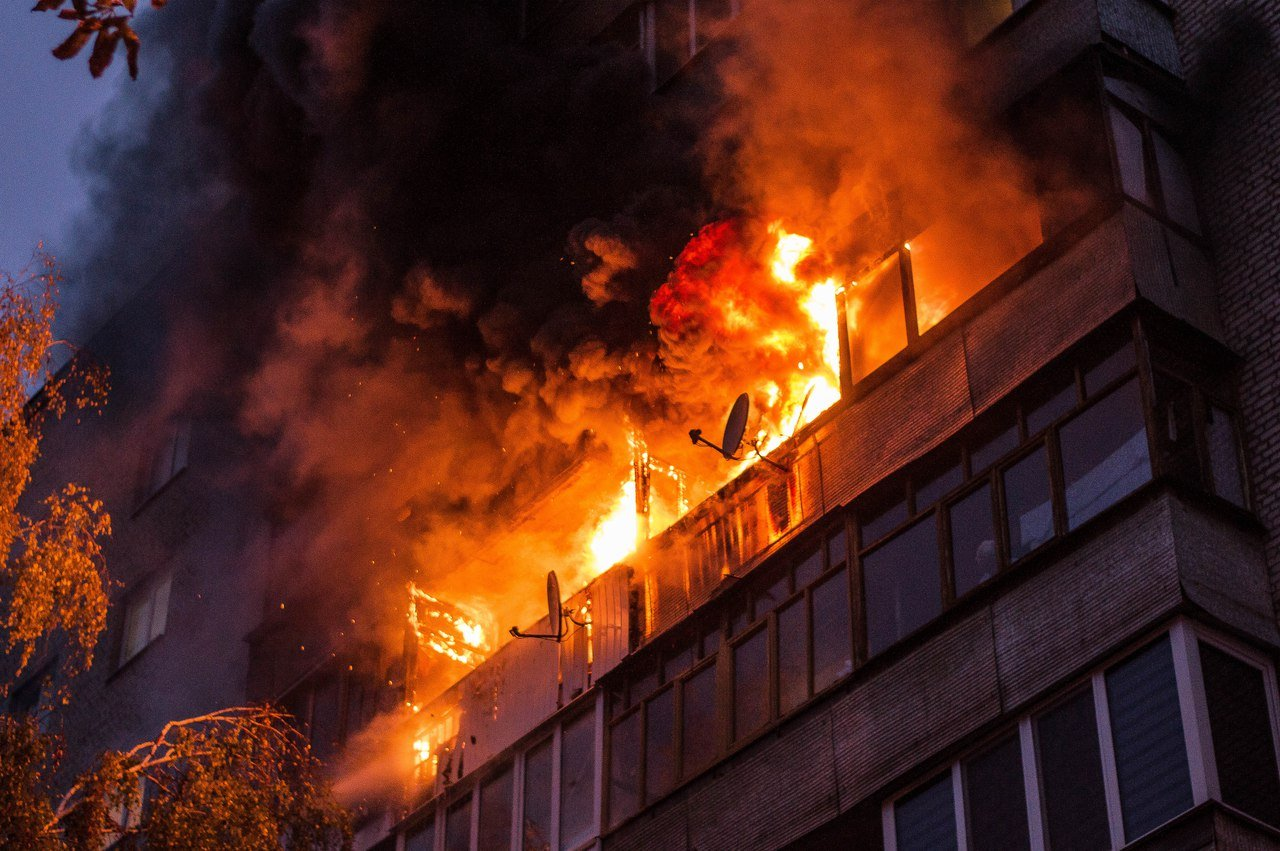fire: (76, 13, 897, 750)
